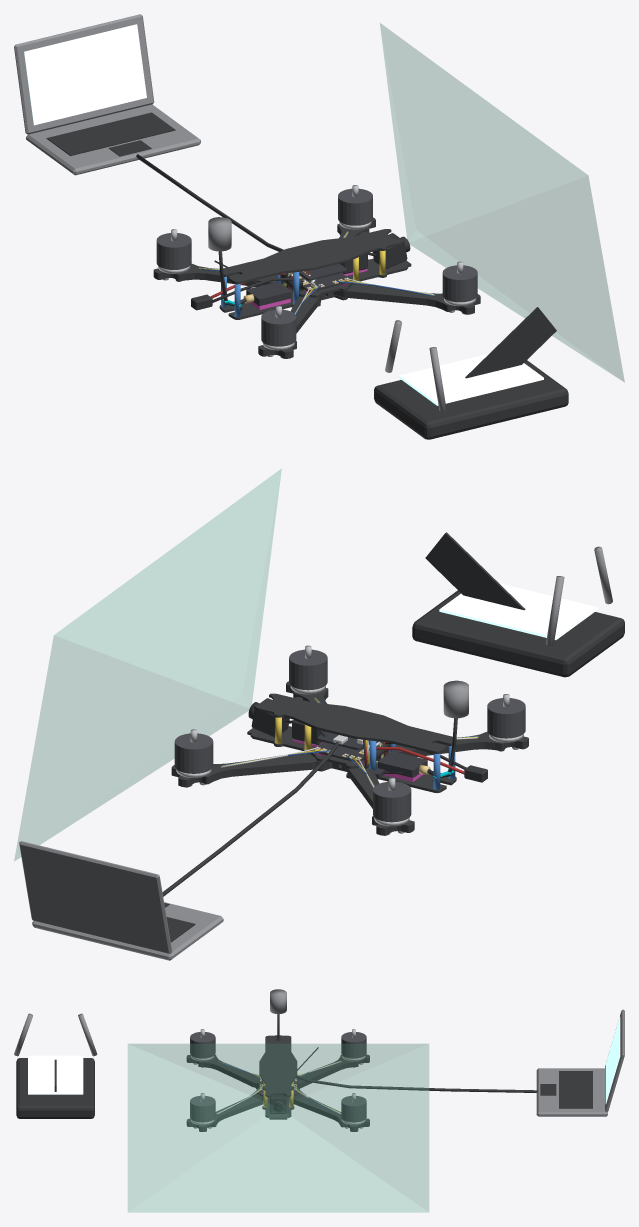
File: step-04-receiver-fpv.glb
3 views of the same model, one above another, from view 1: azimuth 30°, elevation 25°; view 2: azimuth 150°, elevation 25°; view 3: azimuth 270°, elevation 25° (orthographic). The views are drawn at different scales.
Parts seen in each view (by area): view 1: cone_pilot, laptop_tag_screen_face, monitor_body, laptop_tag, frame_top_plate, laptop_tag_screen, monitor_screen, laptop_tag_keys, monitor_hood, frame_arm_M2, M2_bell, M1_bell (+9 smaller); view 2: cone_pilot, laptop_tag_screen, monitor_body, frame_top_plate, monitor_screen, monitor_hood, laptop_tag, frame_arm_M4, M4_bell, M1_bell, M3_bell, M2_bell (+7 smaller); view 3: cone_pilot, monitor_body, monitor_screen, laptop_tag, frame_top_plate, laptop_tag_keys, usb_cable, frame_arm_M2, frame_arm_M4, frame_arm_M1, laptop_tag_screen_face, frame_arm_M3 (+7 smaller).
Part boxes in pixels (<box>): cone_pilot: <box>380,23,624,382</box>; laptop_tag_screen_face: <box>24,24,146,125</box>; monitor_body: <box>374,360,568,439</box>; laptop_tag: <box>26,104,200,175</box>; frame_top_plate: <box>219,229,404,284</box>; laptop_tag_screen: <box>14,14,154,134</box>; monitor_screen: <box>399,353,543,405</box>; laptop_tag_keys: <box>46,112,175,155</box>; monitor_hood: <box>465,307,556,378</box>; frame_arm_M2: <box>333,284,480,314</box>; M2_bell: <box>442,265,477,302</box>; M1_bell: <box>261,309,296,346</box>; cone_pilot: <box>14,468,281,861</box>; laptop_tag_screen: <box>19,841,172,953</box>; monitor_body: <box>412,590,624,677</box>; frame_top_plate: <box>254,693,456,753</box>; monitor_screen: <box>439,583,597,639</box>; monitor_hood: <box>425,532,525,610</box>; laptop_tag: <box>32,902,223,960</box>; frame_arm_M4: <box>171,754,332,787</box>; M4_bell: <box>174,733,213,773</box>; M1_bell: <box>487,698,525,738</box>; M3_bell: <box>373,781,411,822</box>; M2_bell: <box>289,649,327,690</box>; cone_pilot: <box>128,1044,428,1212</box>; monitor_body: <box>16,1058,94,1118</box>; monitor_screen: <box>28,1055,83,1094</box>; laptop_tag: <box>536,1068,607,1116</box>; frame_top_plate: <box>259,1035,297,1097</box>; laptop_tag_keys: <box>559,1071,592,1108</box>; usb_cable: <box>296,1075,537,1092</box>; frame_arm_M2: <box>186,1093,263,1131</box>; frame_arm_M4: <box>293,1093,369,1131</box>; frame_arm_M1: <box>186,1055,259,1088</box>; laptop_tag_screen_face: <box>605,1016,620,1103</box>; frame_arm_M3: <box>297,1054,369,1088</box>.
Bounding box in the file's own units: 0.3064 × 0.1935 × 0.6857.
